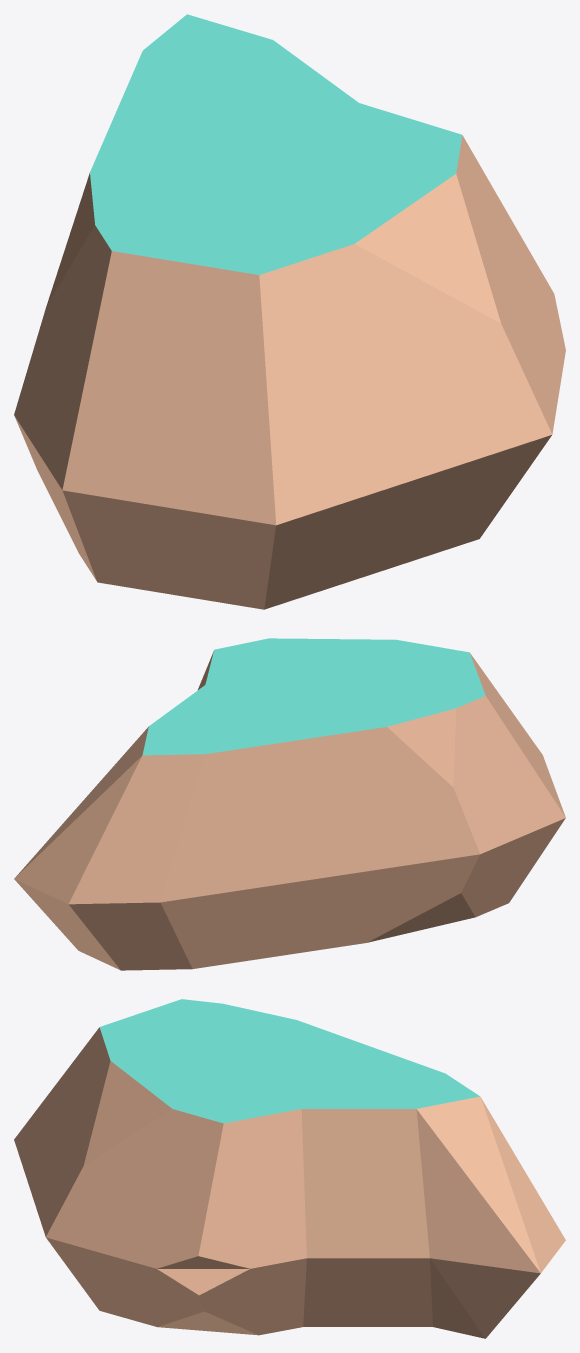
Rendered from rock_largeB.fbx.
The picture shows the model from 3 angles, top to bottom: view 1: azimuth 30°, elevation 25°; view 2: azimuth 150°, elevation 25°; view 3: azimuth 270°, elevation 25°; orthographic projection. The views are drawn at different scales.
Visible parts, largest first — view 1: rock_largeB_LOD0; view 2: rock_largeB_LOD0; view 3: rock_largeB_LOD0.
Part boxes in pixels (bbox=[...]): rock_largeB_LOD0: bbox=[14, 14, 565, 609]; rock_largeB_LOD0: bbox=[14, 638, 565, 970]; rock_largeB_LOD0: bbox=[14, 999, 565, 1338].
Size of what is drawn, in the model's own units: 76.67 by 43.03 by 102.
